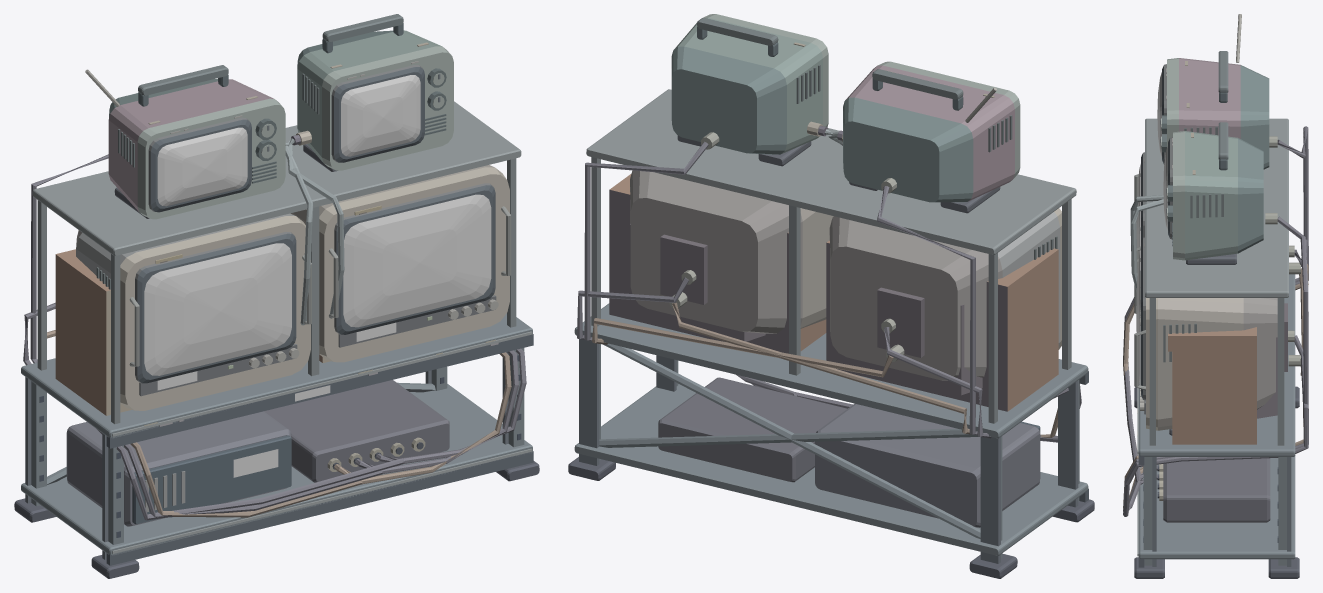
The model's file is service_racks.glb.
The picture shows the model from 3 angles, left to right: view 1: azimuth 30°, elevation 25°; view 2: azimuth 150°, elevation 25°; view 3: azimuth 270°, elevation 25°; orthographic projection. The views are drawn at different scales.
Parts seen in each view (by area): view 1: NearRack, FarRack; view 2: NearRack, FarRack; view 3: NearRack, FarRack.
Boxes of the visible parts, bbox=[...] form: NearRack: bbox=[14, 14, 539, 578]; FarRack: bbox=[23, 65, 404, 520]; NearRack: bbox=[568, 14, 1094, 578]; FarRack: bbox=[609, 61, 1081, 442]; NearRack: bbox=[1123, 122, 1308, 578]; FarRack: bbox=[1123, 14, 1308, 481].
Size of the model in its own units: 8.04 by 8.11 by 3.42.
